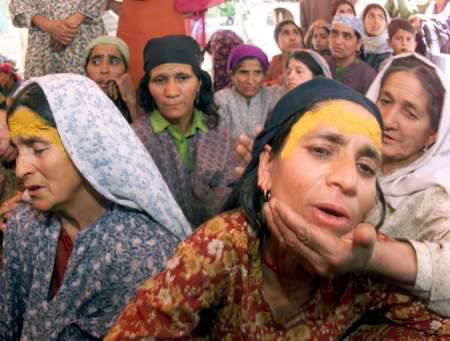Face: (291, 122, 381, 250), (3, 126, 80, 218), (370, 75, 435, 162), (147, 65, 200, 120), (83, 45, 134, 94), (230, 56, 269, 100), (280, 58, 316, 93), (329, 24, 357, 60), (276, 24, 305, 56), (390, 28, 417, 58), (361, 7, 388, 36), (334, 2, 359, 29), (312, 24, 329, 51)
